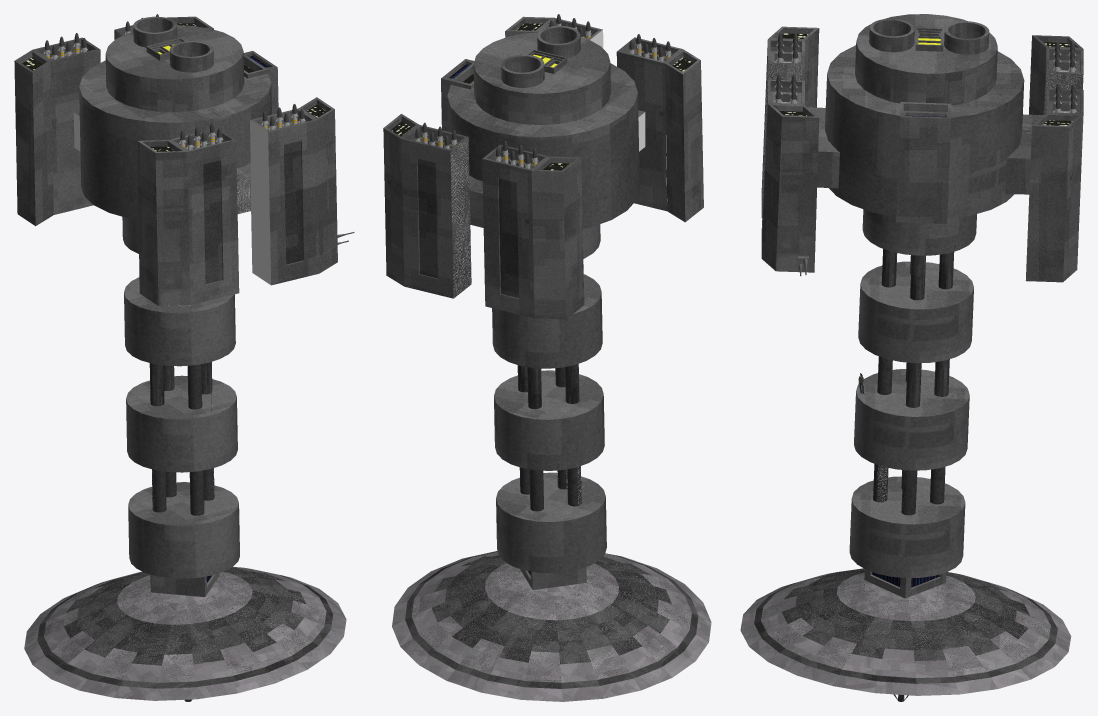
File: sat.dae
3 views of the same model, side by side, from view 1: azimuth 30°, elevation 25°; view 2: azimuth 150°, elevation 25°; view 3: azimuth 270°, elevation 25° (orthographic). The views are drawn at different scales.
Visible parts, largest first — view 1: group_0 (×30); view 2: group_0 (×30); view 3: group_0 (×29).
Part boxes in pixels (bbox=[...]): group_0 (×30): bbox=[14, 16, 346, 700]; group_0 (×30): bbox=[383, 25, 711, 701]; group_0 (×29): bbox=[740, 14, 1083, 695].
Bounding box in the file's own units: 993 × 1029 × 2227.
Materials: 20 (9 with a texture image).
